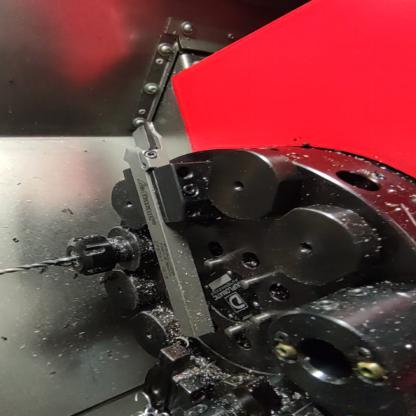bit: (114, 139, 231, 345)
